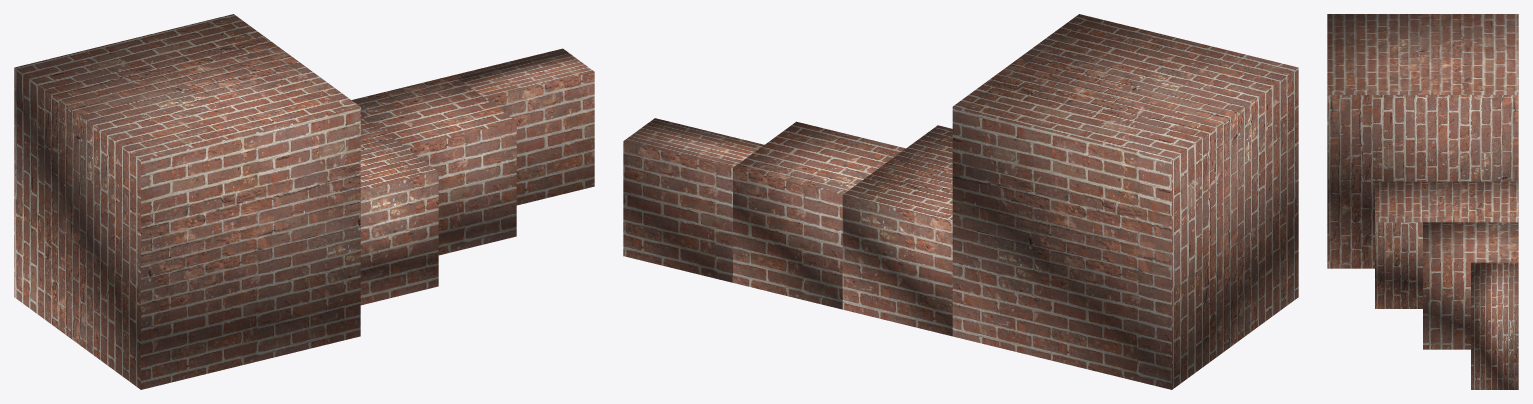
The model's file is stairs.DAE.
The picture shows the model from 3 angles, left to right: view 1: azimuth 30°, elevation 25°; view 2: azimuth 150°, elevation 25°; view 3: azimuth 270°, elevation 25°; orthographic projection. The views are drawn at different scales.
Parts seen in each view (by area): view 1: adventureplaygound01a; view 2: adventureplaygound01a; view 3: adventureplaygound01a.
Boxes of the visible parts, x1,y1,x2,y2 form: adventureplaygound01a: [14, 14, 594, 389]; adventureplaygound01a: [623, 14, 1298, 389]; adventureplaygound01a: [1327, 14, 1518, 389].
Size of the model in its own units: 197 by 78.74 by 78.74.
